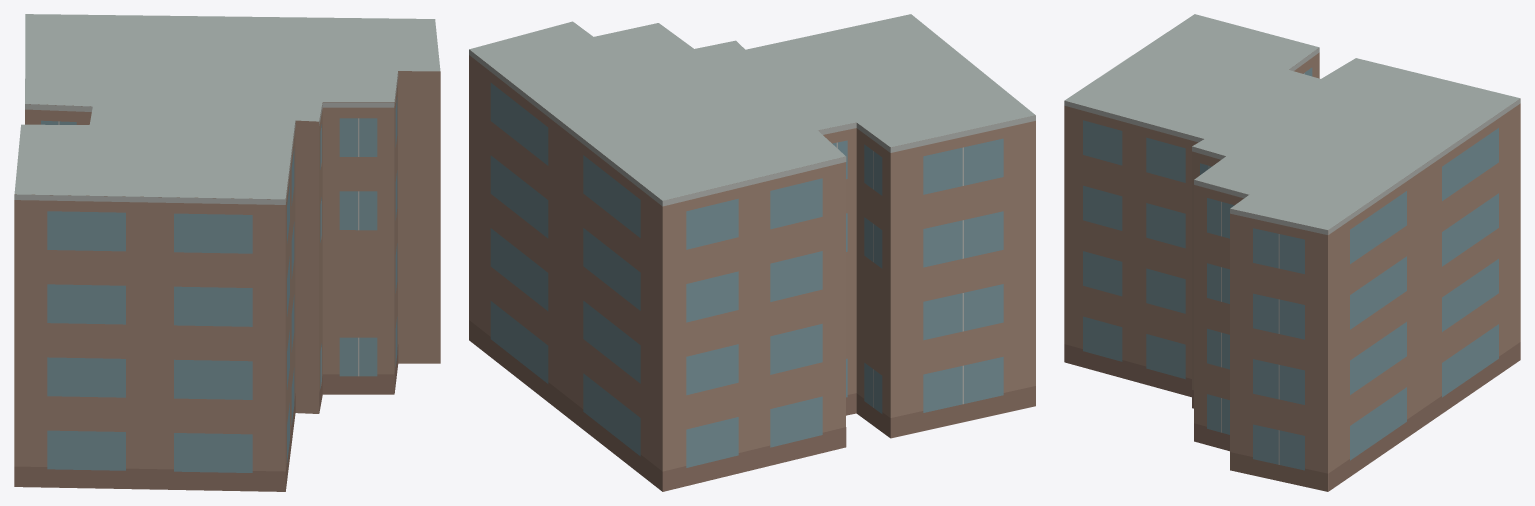
The model's file is survey-upis-32601777.glb.
3 views of the same model, side by side, from view 1: azimuth 30°, elevation 25°; view 2: azimuth 150°, elevation 25°; view 3: azimuth 270°, elevation 25° (orthographic). The views are drawn at different scales.
Visible parts, largest first — view 1: survey-upis-32601777.tmp; view 2: survey-upis-32601777.tmp; view 3: survey-upis-32601777.tmp.
Boxes of the visible parts, x1,y1,x2,y2 form: survey-upis-32601777.tmp: (14, 14, 440, 491); survey-upis-32601777.tmp: (469, 14, 1035, 491); survey-upis-32601777.tmp: (1064, 14, 1520, 491).
Size of the model in its own units: 22.51 by 12.7 by 20.08.
